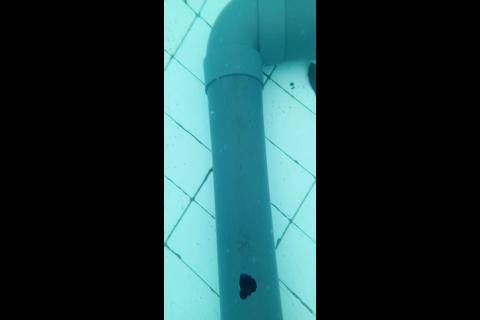kebocoran: (237, 270, 258, 300)
